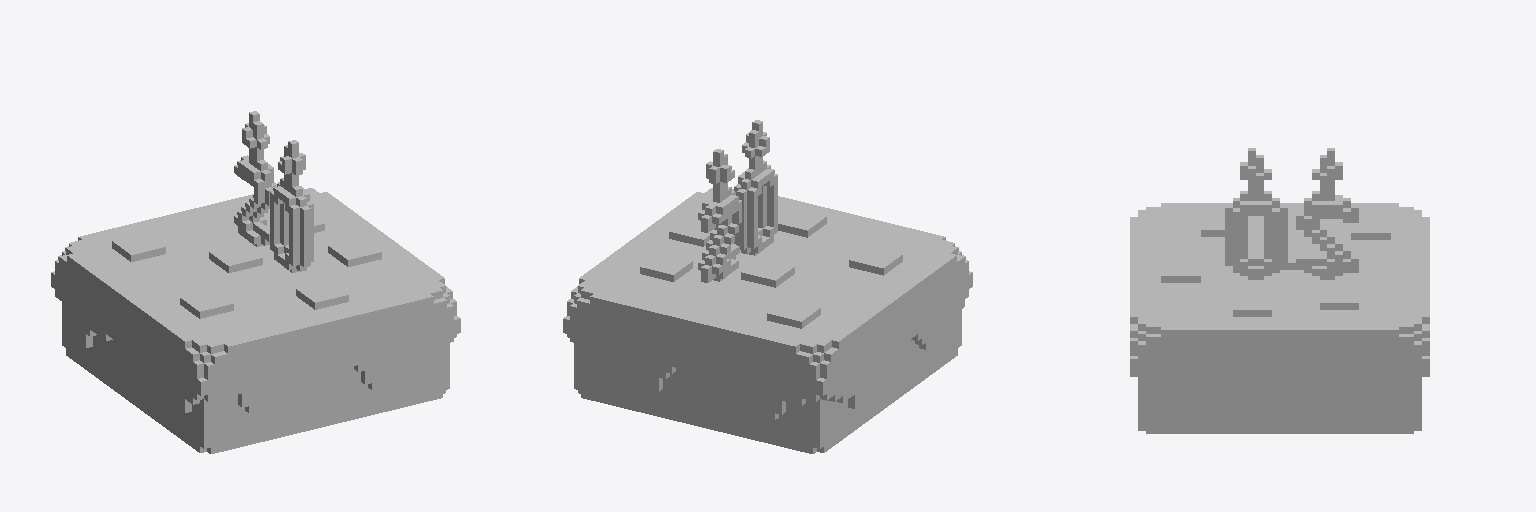
The model's file is cake-1.obj.
3 renders of one model, left to right at view 1: azimuth 30°, elevation 25°; view 2: azimuth 150°, elevation 25°; view 3: azimuth 270°, elevation 25°, orthographic.
Visible parts, largest first — view 1: object 1; view 2: object 1; view 3: object 1.
Part boxes in pixels (left/top/right/bottom): object 1: left=51, top=111, right=460, bottom=453; object 1: left=563, top=120, right=972, bottom=453; object 1: left=1130, top=148, right=1429, bottom=433.
Bounding box in the file's own units: 3.8 × 3.3 × 3.8.